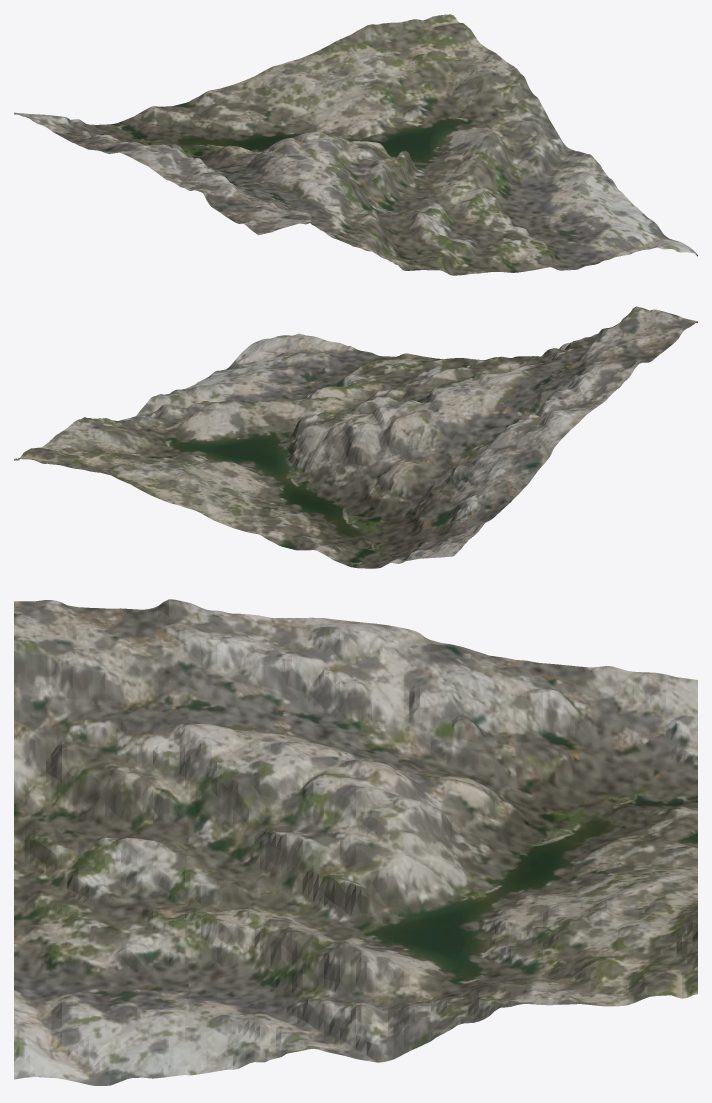
3 views of the same model, one above another, from view 1: azimuth 30°, elevation 25°; view 2: azimuth 150°, elevation 25°; view 3: azimuth 270°, elevation 25° (orthographic). The views are drawn at different scales.
Size of the model in its own units: 250 by 73.5 by 241.
Materials: 1 (1 with a texture image).
